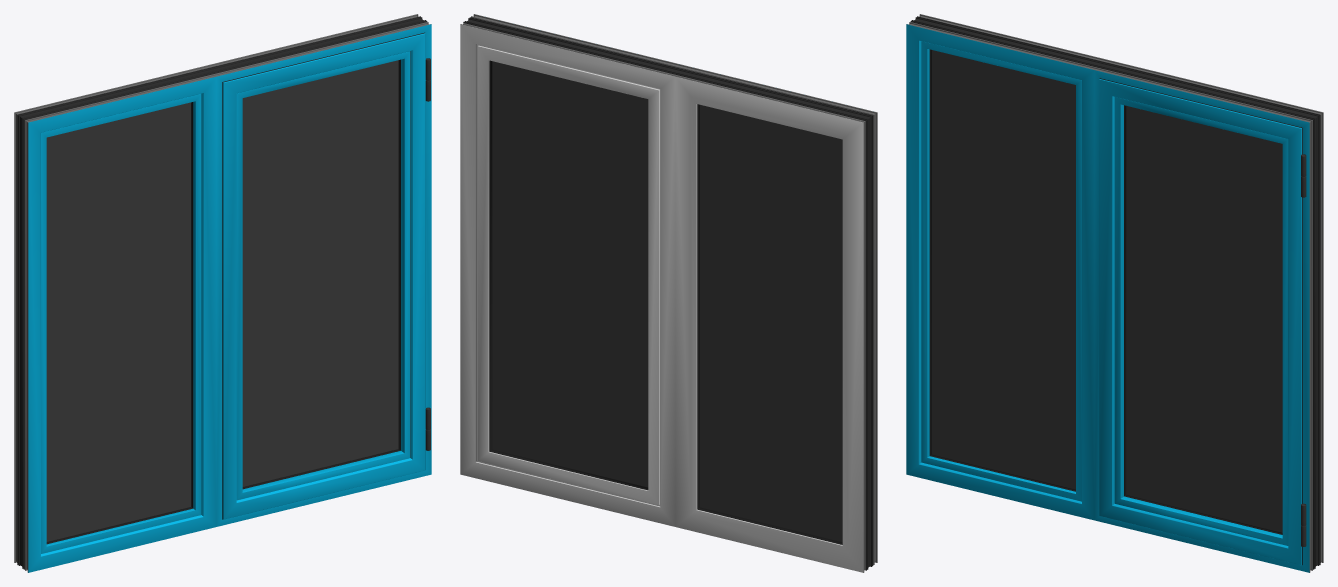
Rendered from 98_1_door.fbx.
3 views of the same model, side by side, from view 1: azimuth 30°, elevation 25°; view 2: azimuth 150°, elevation 25°; view 3: azimuth 330°, elevation 25° (orthographic).
Visible parts, largest first — view 1: SM_Door_Frame_98_L_021, SM_extra_98_013, SM_Window_Frame_1_door_98_003, SM_Door_Frame_98_L_023, SM_Window_Frame_1_door_98_007, SM_Door_Frame_98_L_026, SM_extra_98_019; view 2: SM_Door_Frame_98_L_021, SM_extra_98_013, SM_Window_Frame_1_door_98_003, SM_Door_Frame_98_L_023, SM_Window_Frame_1_door_98_007, SM_Door_Frame_98_L_026, SM_extra_98_019; view 3: SM_Door_Frame_98_L_021, SM_extra_98_013, SM_Window_Frame_1_door_98_003, SM_Door_Frame_98_L_023, SM_Window_Frame_1_door_98_007, SM_Door_Frame_98_L_026, SM_extra_98_019.
Boxes of the visible parts, x1,y1,x2,y2 form: SM_Door_Frame_98_L_021: (242, 60, 398, 486); SM_extra_98_013: (46, 102, 190, 541); SM_Window_Frame_1_door_98_003: (14, 14, 431, 572); SM_Door_Frame_98_L_023: (223, 33, 425, 519); SM_Window_Frame_1_door_98_007: (17, 16, 427, 569); SM_Door_Frame_98_L_026: (222, 32, 424, 519); SM_extra_98_019: (46, 102, 193, 544); SM_Door_Frame_98_L_021: (492, 61, 648, 487); SM_extra_98_013: (700, 105, 842, 541); SM_Window_Frame_1_door_98_003: (460, 14, 877, 572); SM_Door_Frame_98_L_023: (476, 44, 660, 506); SM_Window_Frame_1_door_98_007: (463, 17, 873, 570); SM_Door_Frame_98_L_026: (489, 60, 648, 490); SM_extra_98_019: (697, 104, 842, 544); SM_Door_Frame_98_L_021: (1126, 106, 1282, 532); SM_extra_98_013: (932, 50, 1075, 489); SM_Window_Frame_1_door_98_003: (906, 14, 1323, 572); SM_Door_Frame_98_L_023: (1099, 79, 1301, 565); SM_Window_Frame_1_door_98_007: (910, 16, 1320, 569); SM_Door_Frame_98_L_026: (1099, 78, 1302, 564); SM_extra_98_019: (929, 49, 1075, 491).
Bounding box in the file's own units: 150 × 160 × 10.69.
